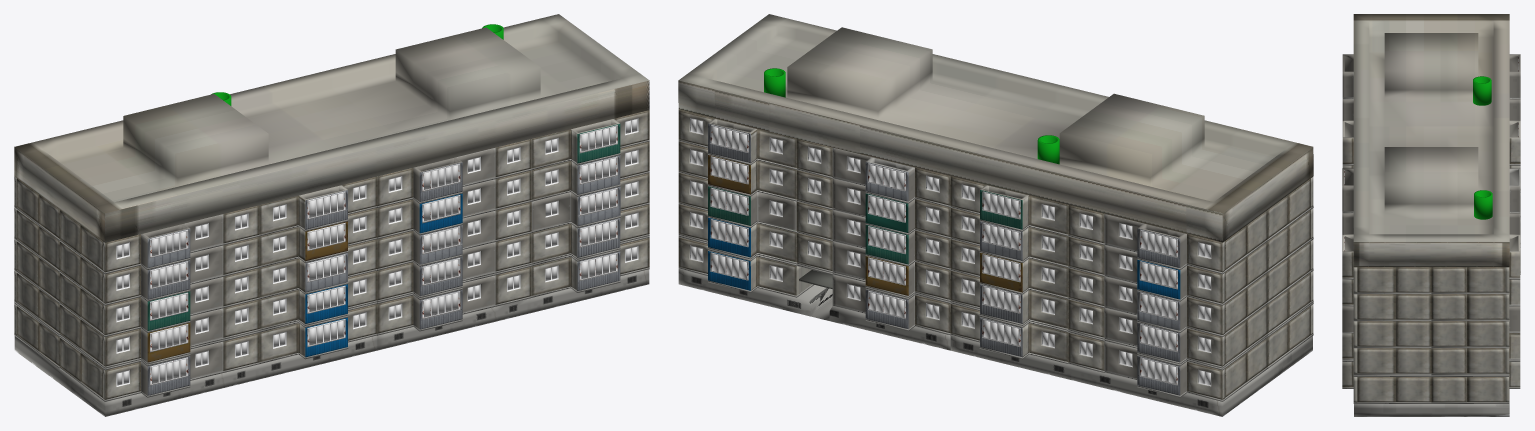
File: HruschOsnova.fbx
3 renders of one model, left to right at view 1: azimuth 30°, elevation 25°; view 2: azimuth 150°, elevation 25°; view 3: azimuth 270°, elevation 25°, orthographic. The views are drawn at different scales.
Parts seen in each view (by area): view 1: Куб.002, Куб, Куб.001, Плоскость.447, Плоскость.884, Плоскость.440, Плоскость.877, Плоскость.401, Плоскость.018, Плоскость.309, Плоскость.470, Плоскость.792 (+72 smaller); view 2: Куб.002, Куб, Куб.001, Плоскость.907, Плоскость.424, Плоскость.020, Плоскость.900, Плоскость.417, Плоскость.815, Плоскость.493, Плоскость.769, Плоскость.861 (+75 smaller); view 3: Куб.002, Куб.001, Плоскость.003, Плоскость.024, Плоскость.290, Плоскость.313, Плоскость.336, Плоскость.359, Плоскость.382, Плоскость.405, Плоскость.428, Плоскость.451 (+40 smaller).
Part boxes in pixels (<box>): Куб.002: <box>14,14,649,242</box>; Куб: <box>14,335,377,416</box>; Куб.001: <box>377,269,649,350</box>; Плоскость.447: <box>531,119,620,168</box>; Плоскость.884: <box>259,185,347,234</box>; Плоскость.440: <box>413,147,495,201</box>; Плоскость.877: <box>141,214,223,268</box>; Плоскость.401: <box>531,155,620,199</box>; Плоскость.018: <box>531,251,620,295</box>; Плоскость.309: <box>531,218,620,262</box>; Плоскость.470: <box>259,317,347,362</box>; Плоскость.792: <box>259,253,347,297</box>; Куб.002: <box>678,14,1313,242</box>; Куб: <box>950,335,1312,416</box>; Куб.001: <box>678,269,950,350</box>; Плоскость.907: <box>980,185,1068,234</box>; Плоскость.424: <box>708,118,796,167</box>; Плоскость.020: <box>708,251,811,295</box>; Плоскость.900: <box>1104,214,1186,268</box>; Плоскость.417: <box>832,147,914,201</box>; Плоскость.815: <box>980,253,1068,297</box>; Плоскость.493: <box>980,317,1068,361</box>; Плоскость.769: <box>980,284,1068,328</box>; Плоскость.861: <box>980,221,1068,265</box>; Куб.002: <box>1353,14,1509,267</box>; Куб.001: <box>1354,389,1509,416</box>; Плоскость.003: <box>1467,377,1505,402</box>; Плоскость.024: <box>1357,377,1395,402</box>; Плоскость.290: <box>1467,348,1505,373</box>; Плоскость.313: <box>1357,348,1395,373</box>; Плоскость.336: <box>1467,321,1505,346</box>; Плоскость.359: <box>1357,321,1395,346</box>; Плоскость.382: <box>1467,294,1505,319</box>; Плоскость.405: <box>1357,294,1395,319</box>; Плоскость.428: <box>1467,267,1505,292</box>; Плоскость.451: <box>1357,267,1395,292</box>.
Size of the model in its own units: 8996 by 3568 by 2970.
Materials: 37 (34 with a texture image).
